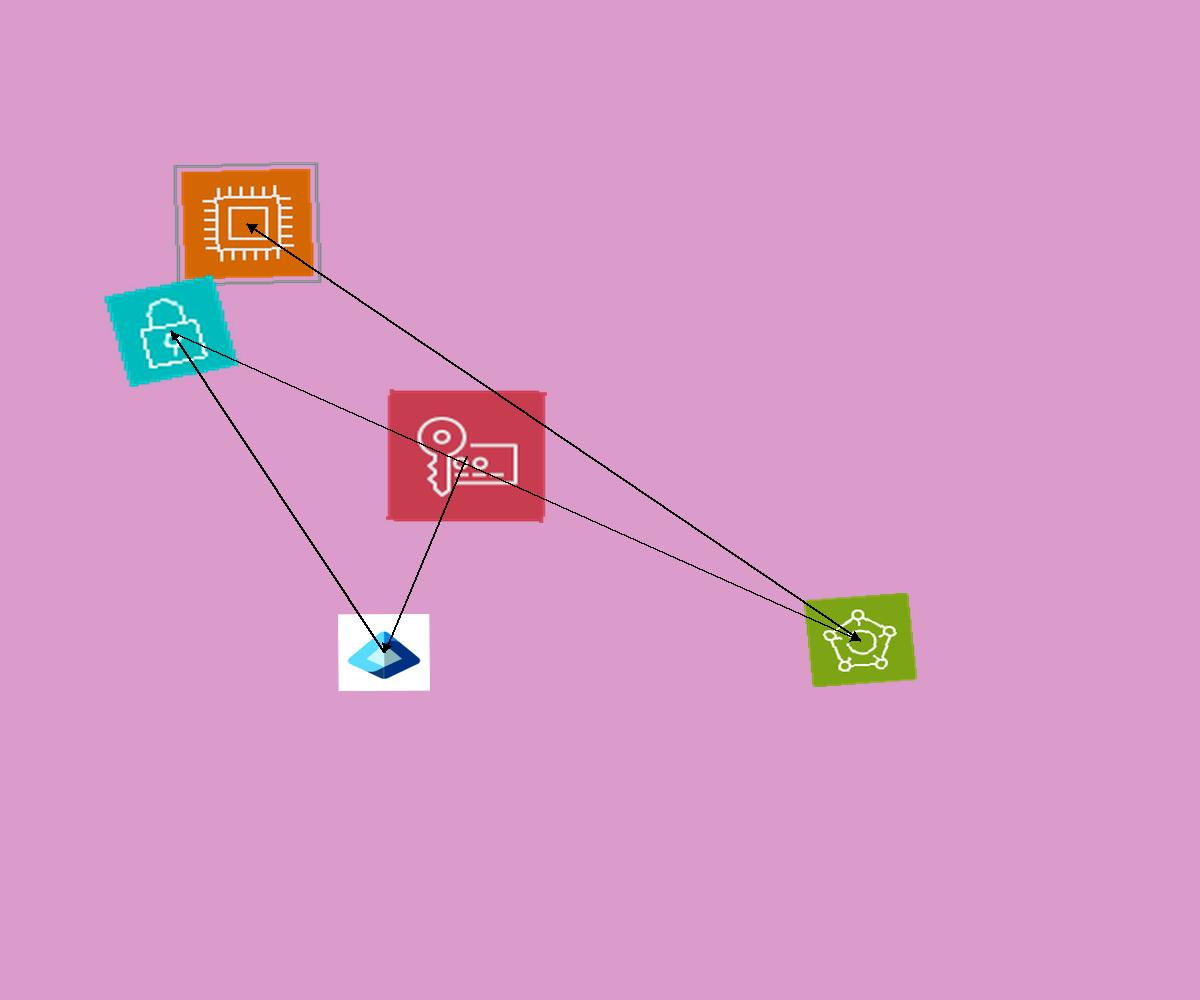AWS-Backup: (803, 592, 918, 688)
AWS-Category_Compute: (172, 161, 323, 287)
AWS-Key-Management-Service: (386, 389, 547, 523)
AWS-Private-subnet: (102, 273, 241, 389)
Azure_microsoft_entra: (338, 614, 430, 691)
